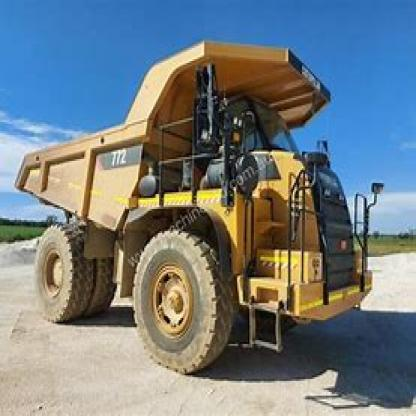dump_truck: (10, 32, 377, 374)
